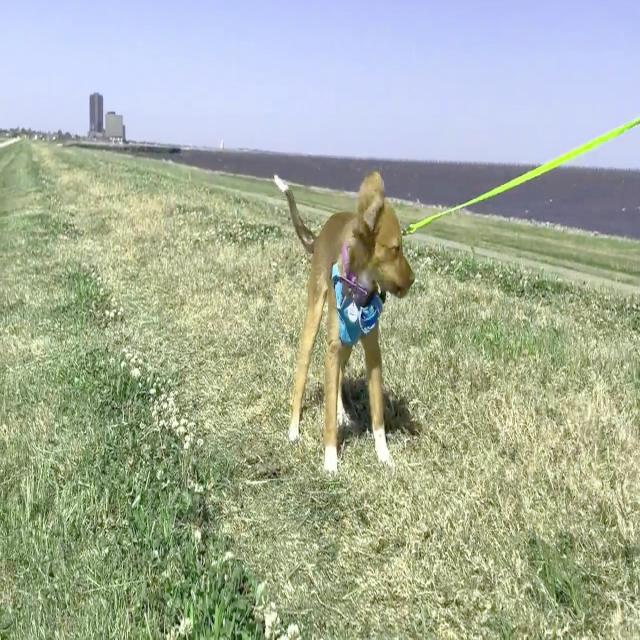Dog: (274, 171, 416, 476)
